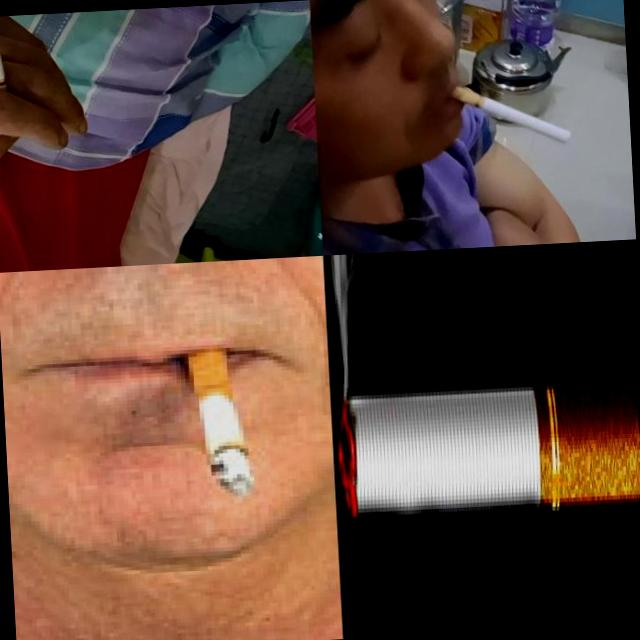cigarette: (337, 376, 640, 514), (187, 340, 255, 495), (449, 82, 572, 148), (0, 16, 14, 113)
